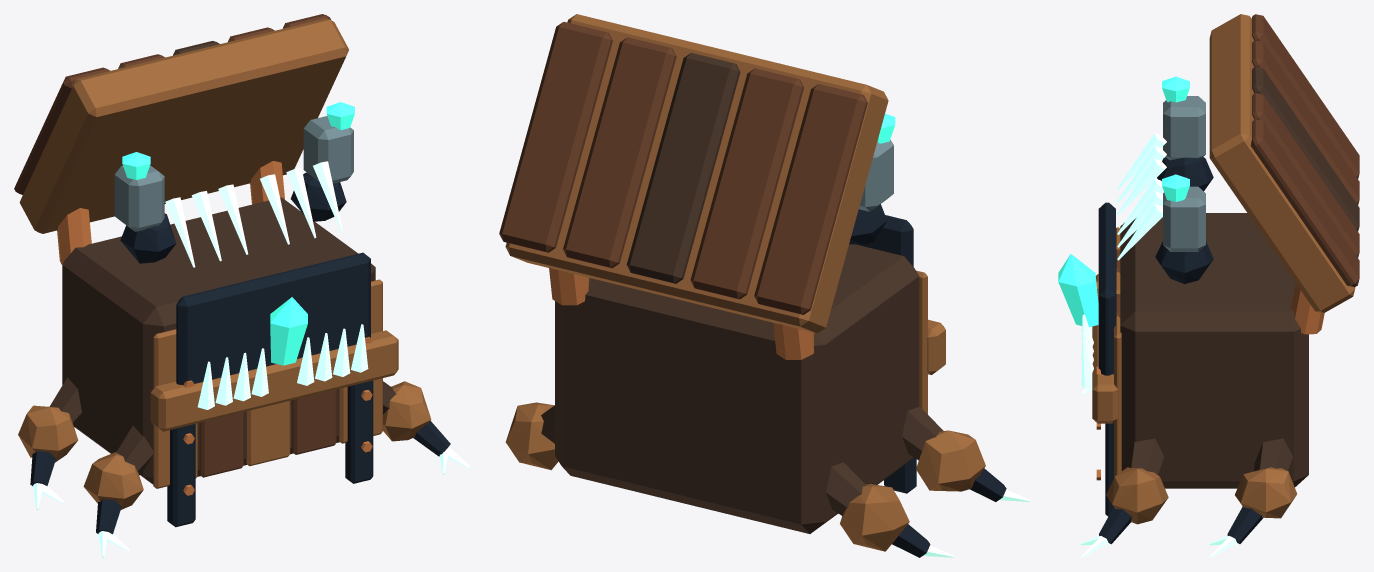
Rendered from Burrow_Mimic.gltf.
The picture shows the model from 3 angles, left to right: view 1: azimuth 30°, elevation 25°; view 2: azimuth 150°, elevation 25°; view 3: azimuth 270°, elevation 25°; orthographic projection. The views are drawn at different scales.
Visible parts, largest first — view 1: Hinged_Upper_Jaw_Mesh, Chest_Core_Mesh, Mouth_Interior_Mesh, Front_Wood_Panel_Mesh (×5), Lower_Jaw_Mesh, Knee_Node_Mesh (×3), Lid_Horn_Mesh (×2), Iron_Corner_Mesh (×2), Upper_Tooth_Mesh (×6), Eyestalk_Base_Mesh (×2), Hinge_Mesh (×2), Root_Shin_Mesh (×3) (+4 smaller); view 2: Chest_Core_Mesh, Lid_Plank_Mesh (×5), Hinged_Upper_Jaw_Mesh, Knee_Node_Mesh (×3), Root_Femur_Mesh (×2), Hinge_Mesh (×2), Lid_Horn_Mesh, Root_Shin_Mesh (×2), Mouth_Interior_Mesh, Front_Wood_Panel_Mesh, Eyestalk_Base_Mesh, Lower_Jaw_Mesh (+1 smaller); view 3: Chest_Core_Mesh, Lid_Plank_Mesh (×5), Hinged_Upper_Jaw_Mesh, Lid_Horn_Mesh (×2), Knee_Node_Mesh (×2), Upper_Tooth_Mesh (×6), Mouth_Interior_Mesh, Eyestalk_Base_Mesh (×2), Tongue_Mesh, Root_Femur_Mesh (×2), Lower_Jaw_Mesh, Root_Shin_Mesh (×2) (+5 smaller).
Boxes of the visible parts, x1,y1,x2,y2 form: Hinged_Upper_Jaw_Mesh: [19, 18, 348, 233]; Chest_Core_Mesh: [62, 197, 375, 484]; Mouth_Interior_Mesh: [176, 252, 370, 384]; Front_Wood_Panel_Mesh (×5): [153, 279, 382, 488]; Lower_Jaw_Mesh: [150, 330, 398, 431]; Knee_Node_Mesh (×3): [18, 381, 431, 509]; Lid_Horn_Mesh (×2): [114, 116, 353, 231]; Iron_Corner_Mesh (×2): [167, 380, 373, 527]; Upper_Tooth_Mesh (×6): [165, 161, 342, 267]; Eyestalk_Base_Mesh (×2): [120, 172, 346, 263]; Hinge_Mesh (×2): [57, 161, 284, 264]; Root_Shin_Mesh (×3): [30, 421, 450, 534]; Chest_Core_Mesh: [555, 244, 919, 533]; Lid_Plank_Mesh (×5): [499, 22, 867, 314]; Hinged_Upper_Jaw_Mesh: [505, 14, 888, 333]; Knee_Node_Mesh (×3): [505, 402, 985, 551]; Root_Femur_Mesh (×2): [826, 406, 943, 515]; Hinge_Mesh (×2): [549, 268, 814, 359]; Lid_Horn_Mesh: [859, 140, 893, 211]; Root_Shin_Mesh (×2): [892, 468, 1006, 557]; Mouth_Interior_Mesh: [856, 215, 913, 266]; Front_Wood_Panel_Mesh: [916, 270, 927, 414]; Eyestalk_Base_Mesh: [849, 204, 887, 244]; Lower_Jaw_Mesh: [927, 319, 945, 374]; Chest_Core_Mesh: [1120, 213, 1308, 488]; Lid_Plank_Mesh (×5): [1250, 14, 1359, 287]; Hinged_Upper_Jaw_Mesh: [1209, 14, 1355, 312]; Lid_Horn_Mesh (×2): [1163, 96, 1205, 251]; Knee_Node_Mesh (×2): [1106, 467, 1296, 524]; Upper_Tooth_Mesh (×6): [1117, 133, 1166, 260]; Mouth_Interior_Mesh: [1098, 202, 1115, 375]; Eyestalk_Base_Mesh (×2): [1155, 157, 1213, 283]; Tongue_Mesh: [1058, 254, 1098, 327]; Root_Femur_Mesh (×2): [1125, 438, 1292, 474]; Lower_Jaw_Mesh: [1092, 274, 1117, 423]; Root_Shin_Mesh (×2): [1099, 506, 1263, 544].
Size of the model in its own units: 1.95 by 2.04 by 1.41.
